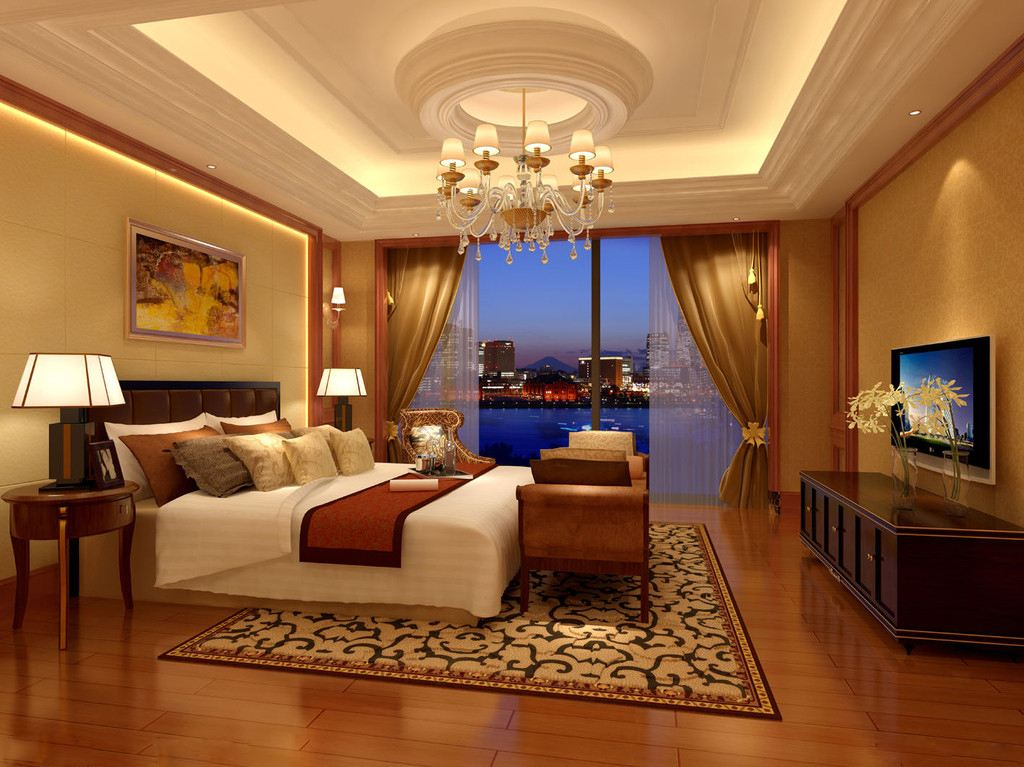床: (107, 451, 532, 616)
枕头: (120, 415, 380, 501)
灯: (425, 85, 612, 258), (12, 351, 121, 494), (310, 366, 369, 435), (321, 285, 349, 316), (194, 163, 216, 178)
